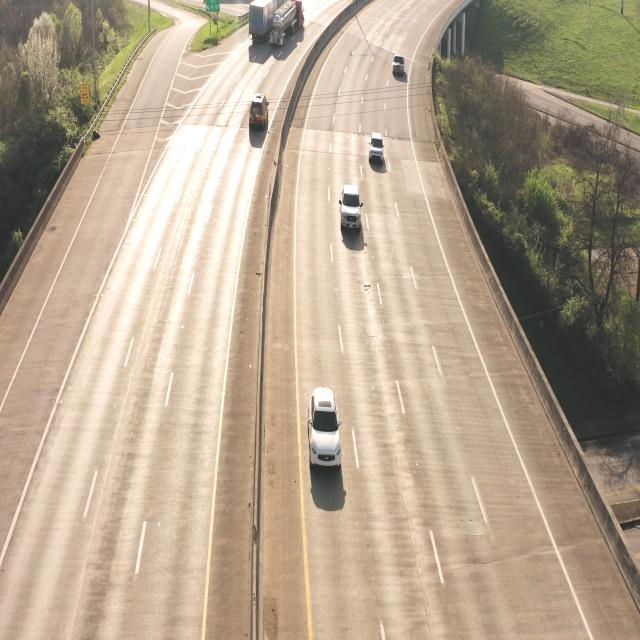Vehicle: (306, 381, 340, 476), (269, 0, 304, 49), (338, 183, 363, 241), (247, 88, 268, 133), (367, 129, 386, 172), (391, 53, 405, 81)
